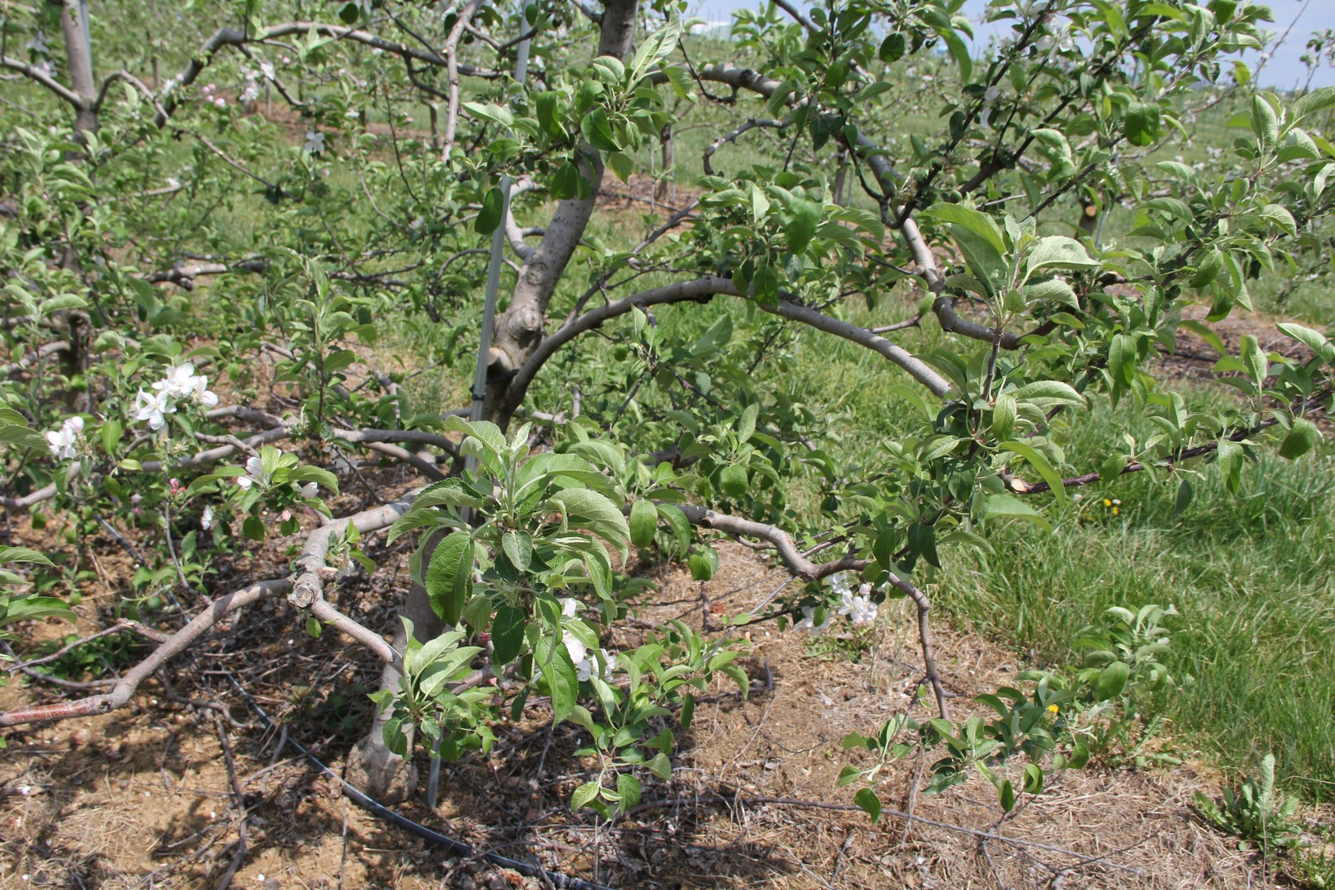flower: (129, 363, 219, 430), (828, 573, 878, 626), (562, 630, 599, 681), (47, 416, 86, 461), (795, 606, 831, 636), (246, 457, 264, 483), (601, 649, 617, 676), (305, 132, 325, 153), (201, 505, 214, 530), (562, 598, 577, 618), (238, 477, 253, 490)
